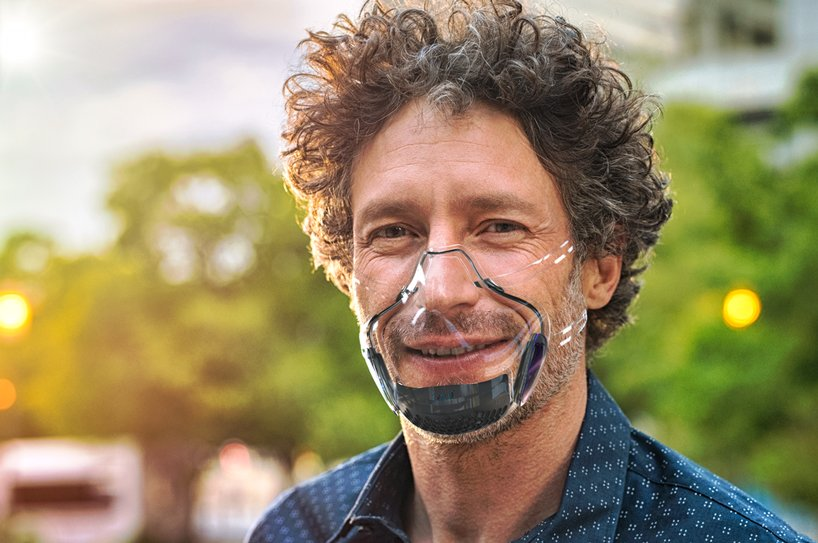with_mask: (291, 24, 647, 461)
